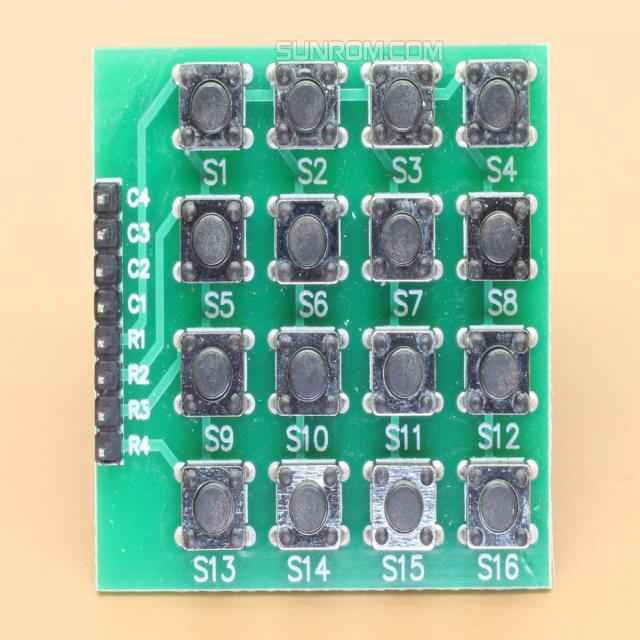2235: (179, 54, 251, 158), (270, 61, 340, 150), (362, 191, 428, 282), (364, 63, 436, 146), (365, 328, 436, 412), (172, 199, 241, 285), (276, 193, 340, 285), (275, 462, 336, 552), (468, 200, 529, 288), (185, 456, 244, 546), (274, 336, 340, 416), (462, 465, 526, 546), (463, 68, 525, 147), (370, 466, 430, 545), (468, 328, 522, 411), (184, 334, 241, 410)
connector -5v-: (87, 182, 119, 454)
